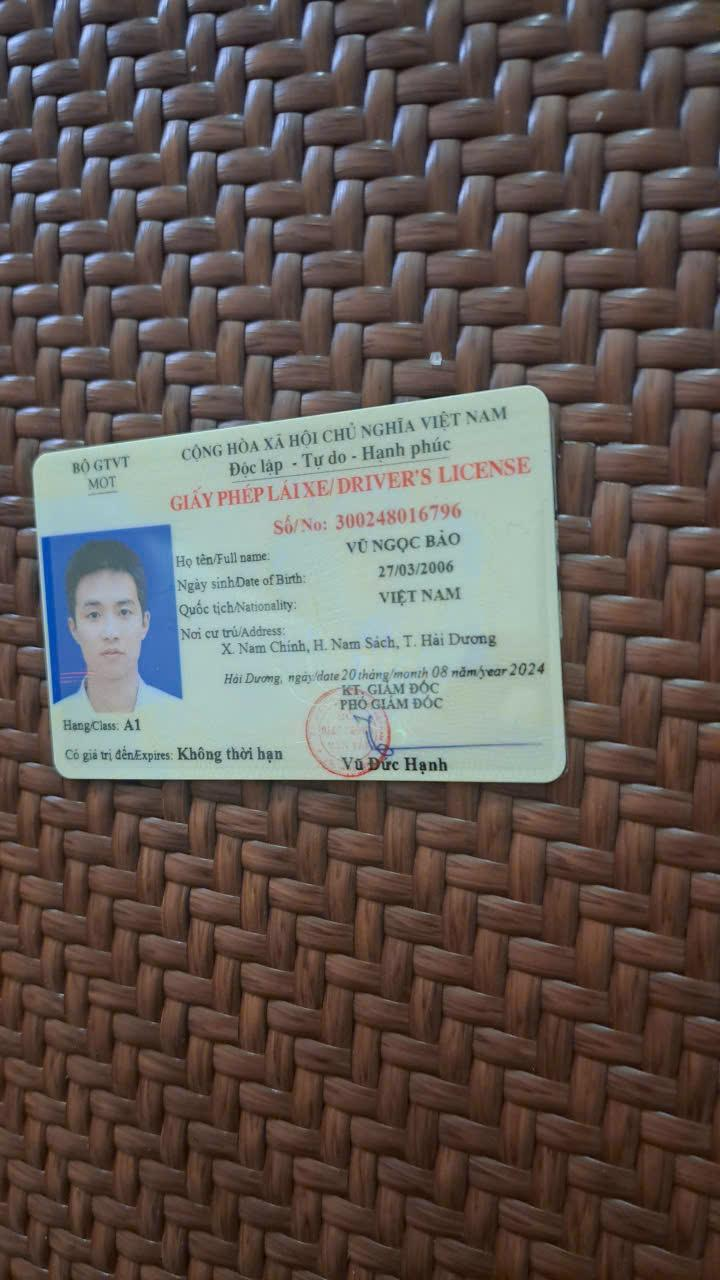gplx: (24, 381, 572, 788)
